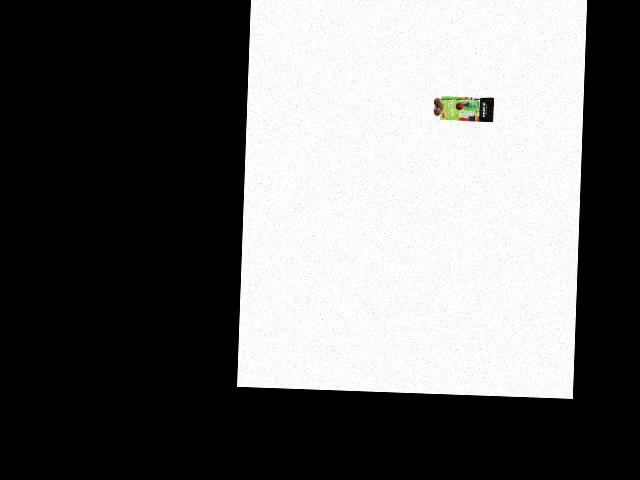chocolate: (439, 89, 496, 125)
